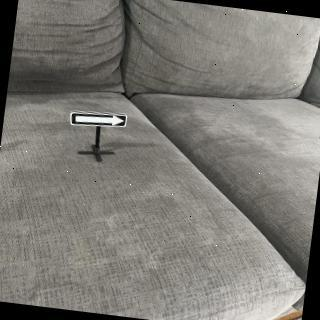sign_oneway_right: (70, 108, 130, 134)
